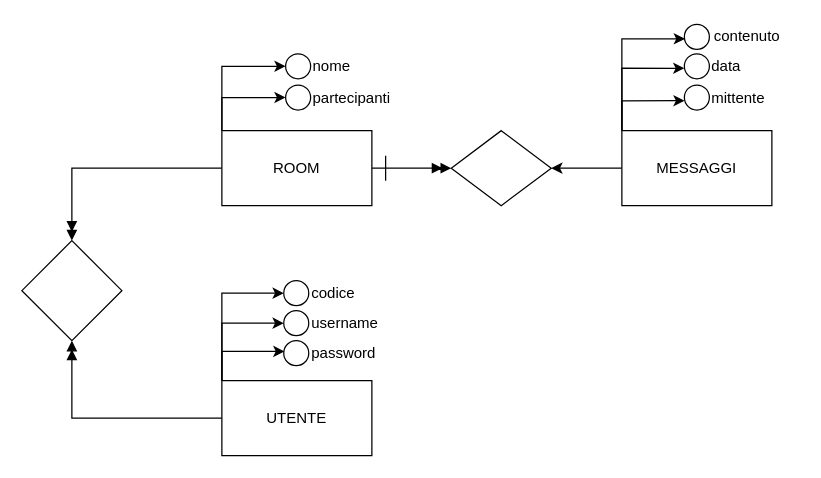
This 821x478 diagram has some shape labels left out. Each missing label, with the centre of its shape:
contiene: [500,167]
partecipare: [71,290]
